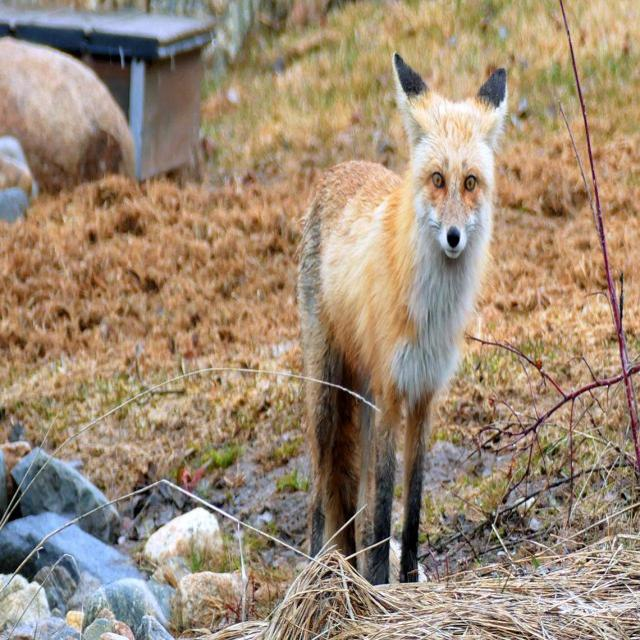fox: (297, 53, 508, 584)
